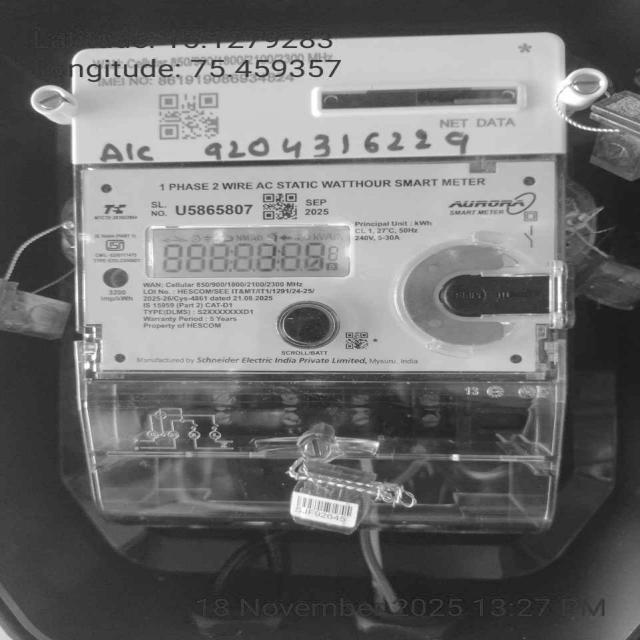meter: (66, 32, 564, 374)
